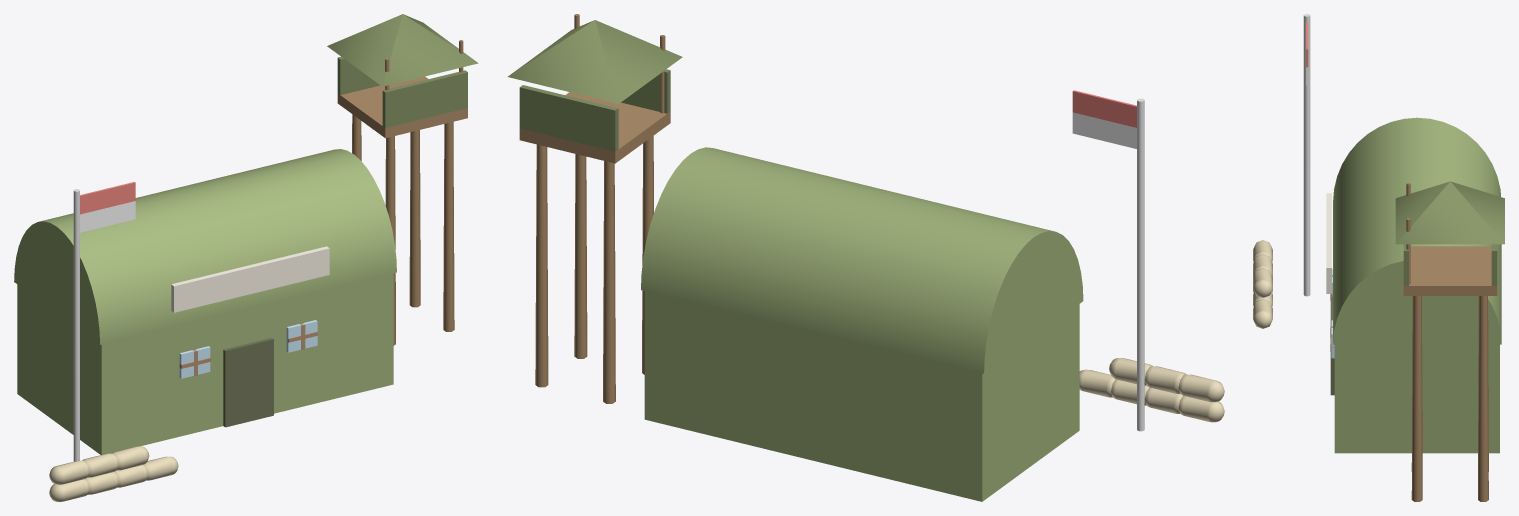
Rendered from markas.glb.
3 renders of one model, left to right at view 1: azimuth 30°, elevation 25°; view 2: azimuth 150°, elevation 25°; view 3: azimuth 270°, elevation 25°, orthographic. The views are drawn at different scales.
Visible parts, largest first — view 1: markas; view 2: markas; view 3: markas.
Boxes of the visible parts, left/top/right/bottom form: markas: left=14, top=14, right=478, bottom=501; markas: left=507, top=14, right=1224, bottom=501; markas: left=1253, top=14, right=1504, bottom=501.
Bounding box in the file's own units: 5.09 × 3.05 × 2.28.
